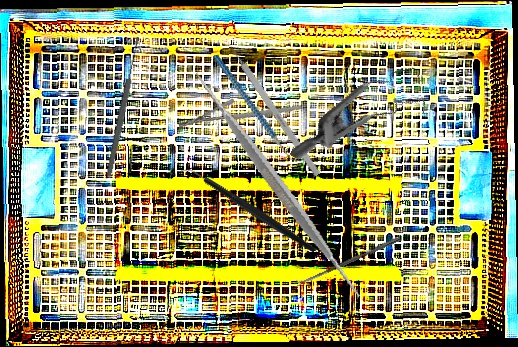Chopper: (177, 133, 318, 289), (212, 39, 303, 178)
Hook Surgical: (222, 36, 321, 177)
Needle Holder: (178, 83, 302, 151)
Spatula Surgical: (150, 58, 406, 311)
Speculum: (289, 35, 441, 202)
Surgical Spoon: (293, 235, 402, 288), (104, 36, 143, 178)
